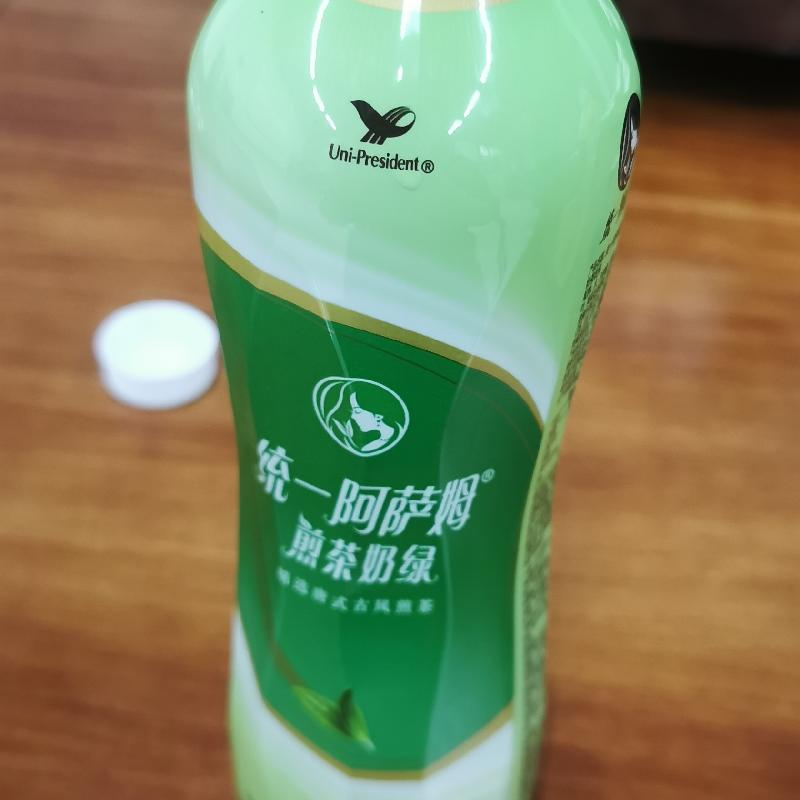bottles: (152, 0, 650, 799)
